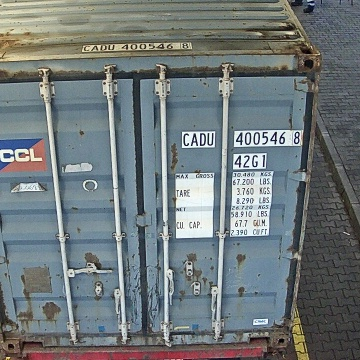serial_id: (182, 130, 300, 146)
